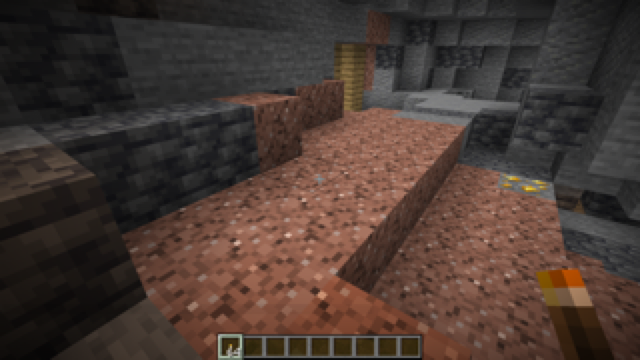gold: (497, 171, 557, 199)
